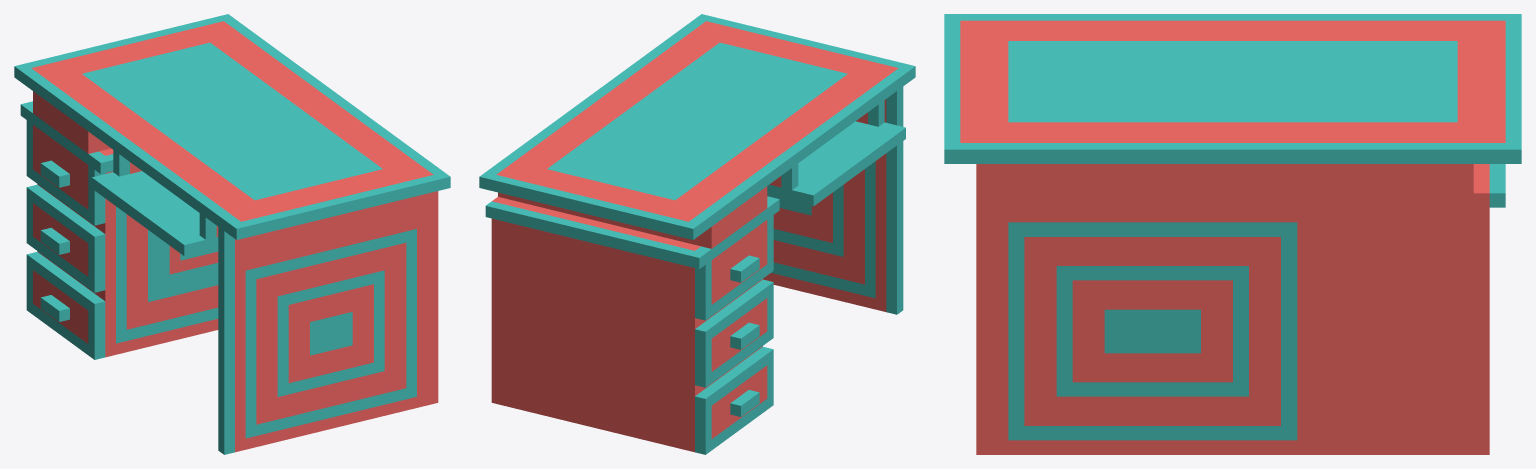
The model's file is desk.obj.
The picture shows the model from 3 angles, left to right: view 1: azimuth 30°, elevation 25°; view 2: azimuth 150°, elevation 25°; view 3: azimuth 270°, elevation 25°; orthographic projection. The views are drawn at different scales.
Parts seen in each view (by area): view 1: desk; view 2: desk; view 3: desk.
Boxes of the visible parts, bbox=[...] form: desk: bbox=[14, 14, 450, 454]; desk: bbox=[479, 14, 915, 454]; desk: bbox=[944, 14, 1521, 454].
Size of the model in its own units: 22 by 21 by 36.
1 material, 1 textured.
